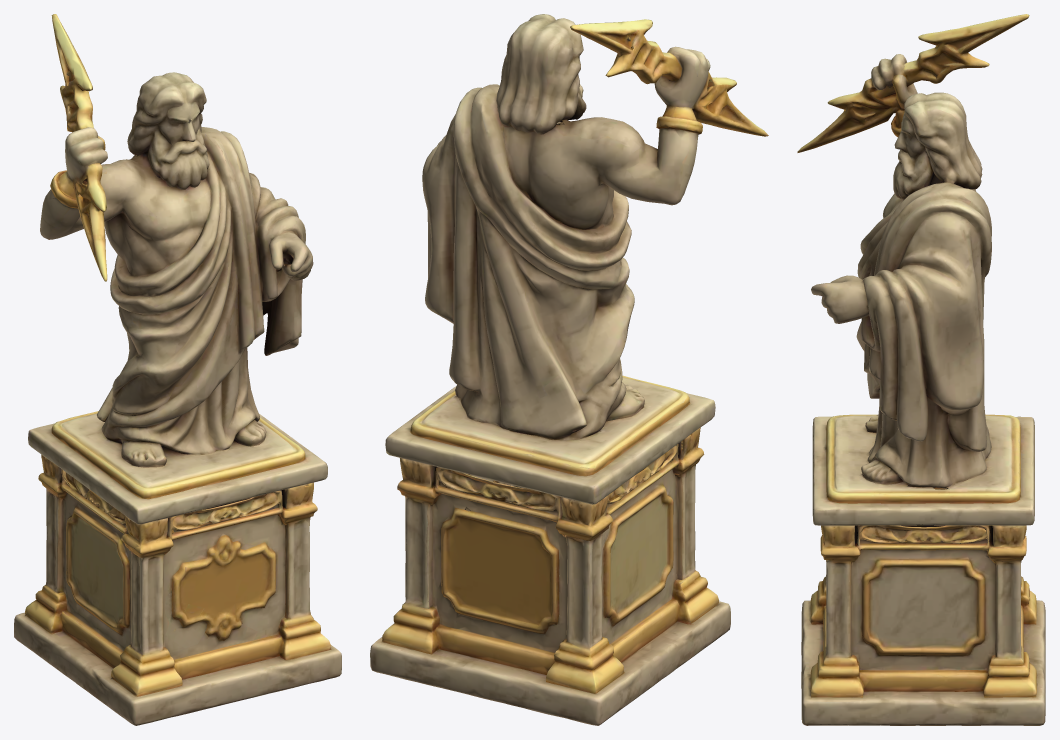
Rendered from statue.glb.
3 renders of one model, left to right at view 1: azimuth 30°, elevation 25°; view 2: azimuth 150°, elevation 25°; view 3: azimuth 270°, elevation 25°, orthographic. The views are drawn at different scales.
Parts seen in each view (by area): view 1: geometry_0; view 2: geometry_0; view 3: geometry_0.
Boxes of the visible parts, <box> form: geometry_0: <box>14,14,341,725</box>; geometry_0: <box>370,14,768,725</box>; geometry_0: <box>797,14,1045,725</box>.
Bounding box in the file's own units: 0.4139 × 1 × 0.3593.
Materials: 1 (1 with a texture image).
